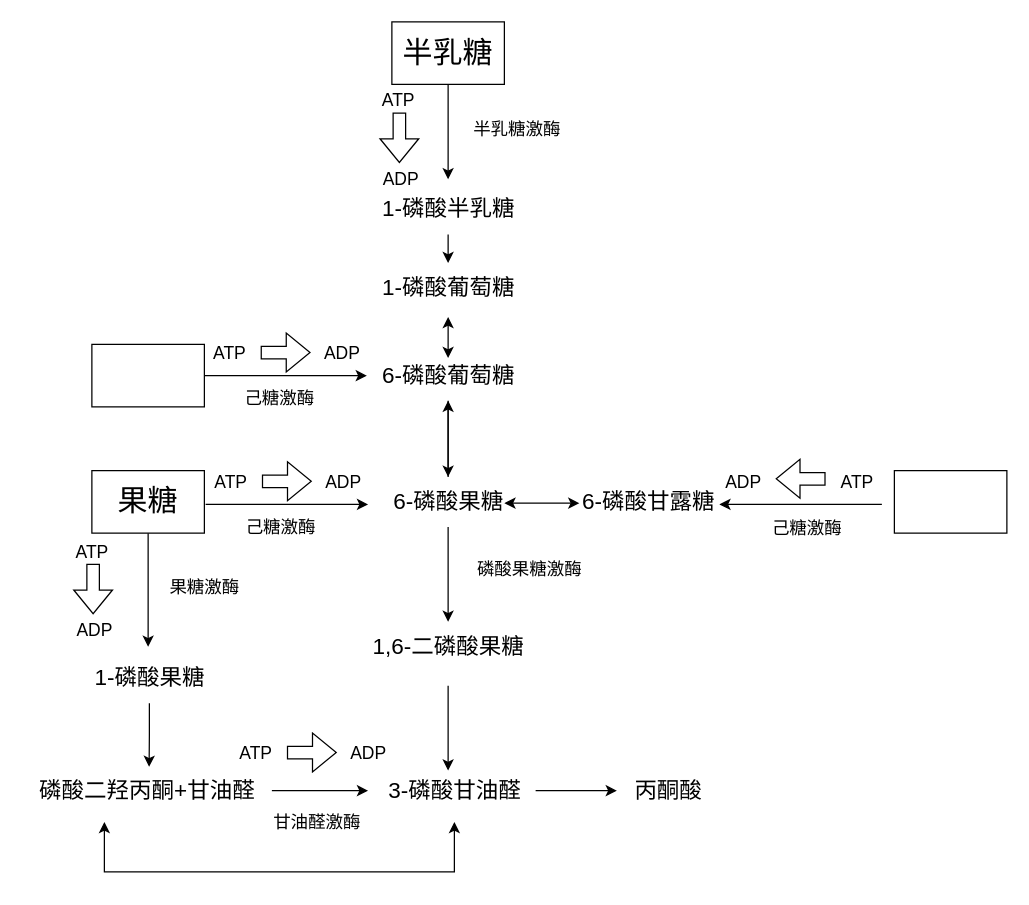
Some shapes in this 1029 by 905 pixel diagram are drawn without their labels. The shapes that lost their labels are listed below. From the top down, each one's centre as x and y in pixels, then its label:
At pixel 147 375: "葡萄糖".
At pixel 950 501: "甘露糖".
